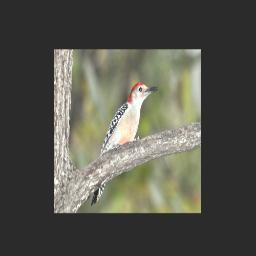Woodpecker: (91, 82, 159, 207)
